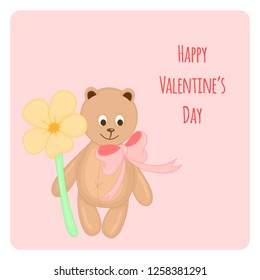animal: (67, 80, 166, 231)
flower: (20, 93, 83, 239)
